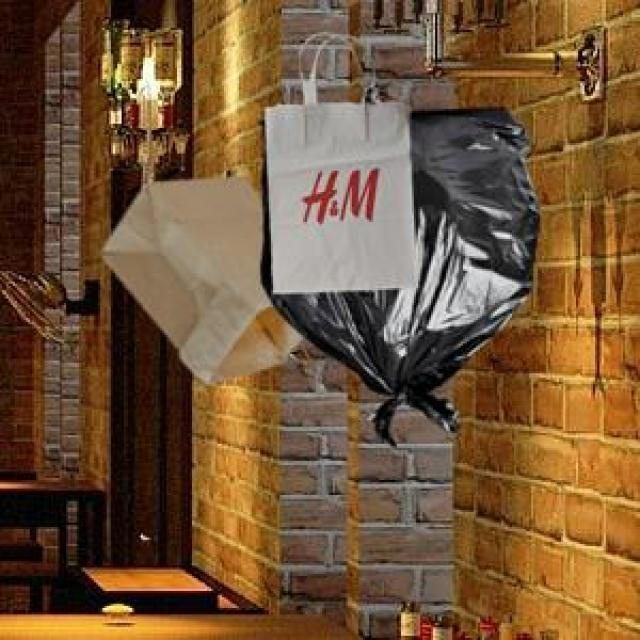miscellaneous trash: (256, 105, 536, 442)
paper: (98, 173, 299, 380), (262, 60, 414, 288)
